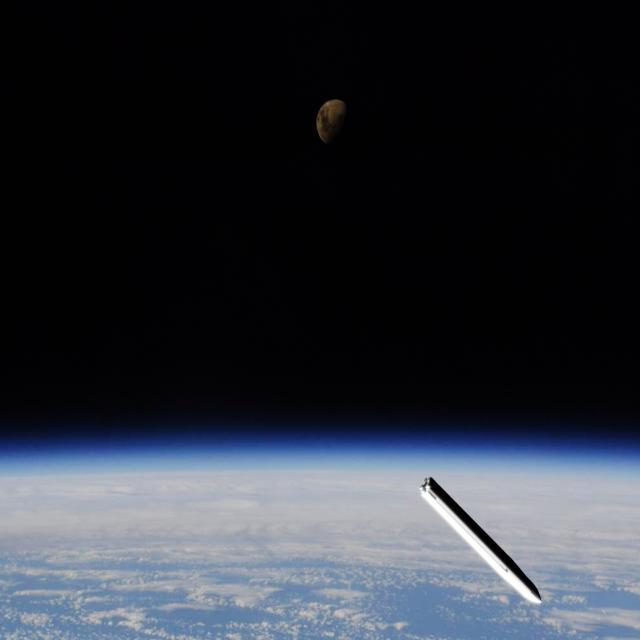rocket: (419, 473, 547, 614)
